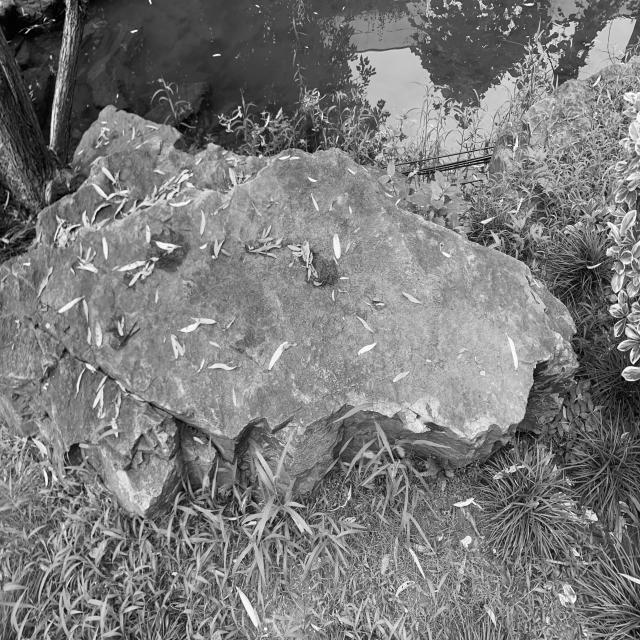Stone: (0, 140, 575, 516)
